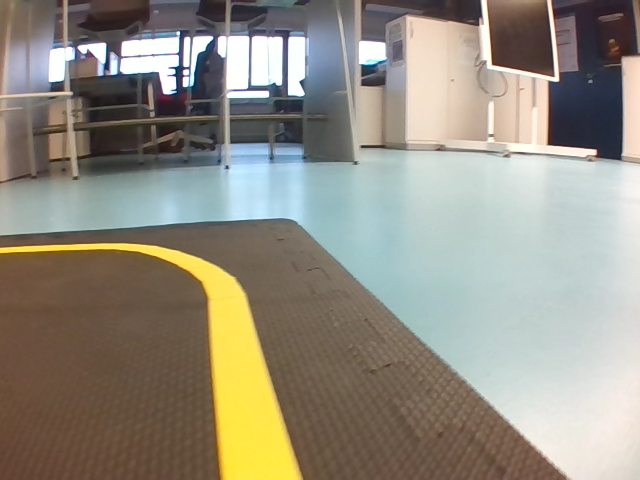30: (377, 98, 416, 134)
stop: (83, 108, 103, 150)
